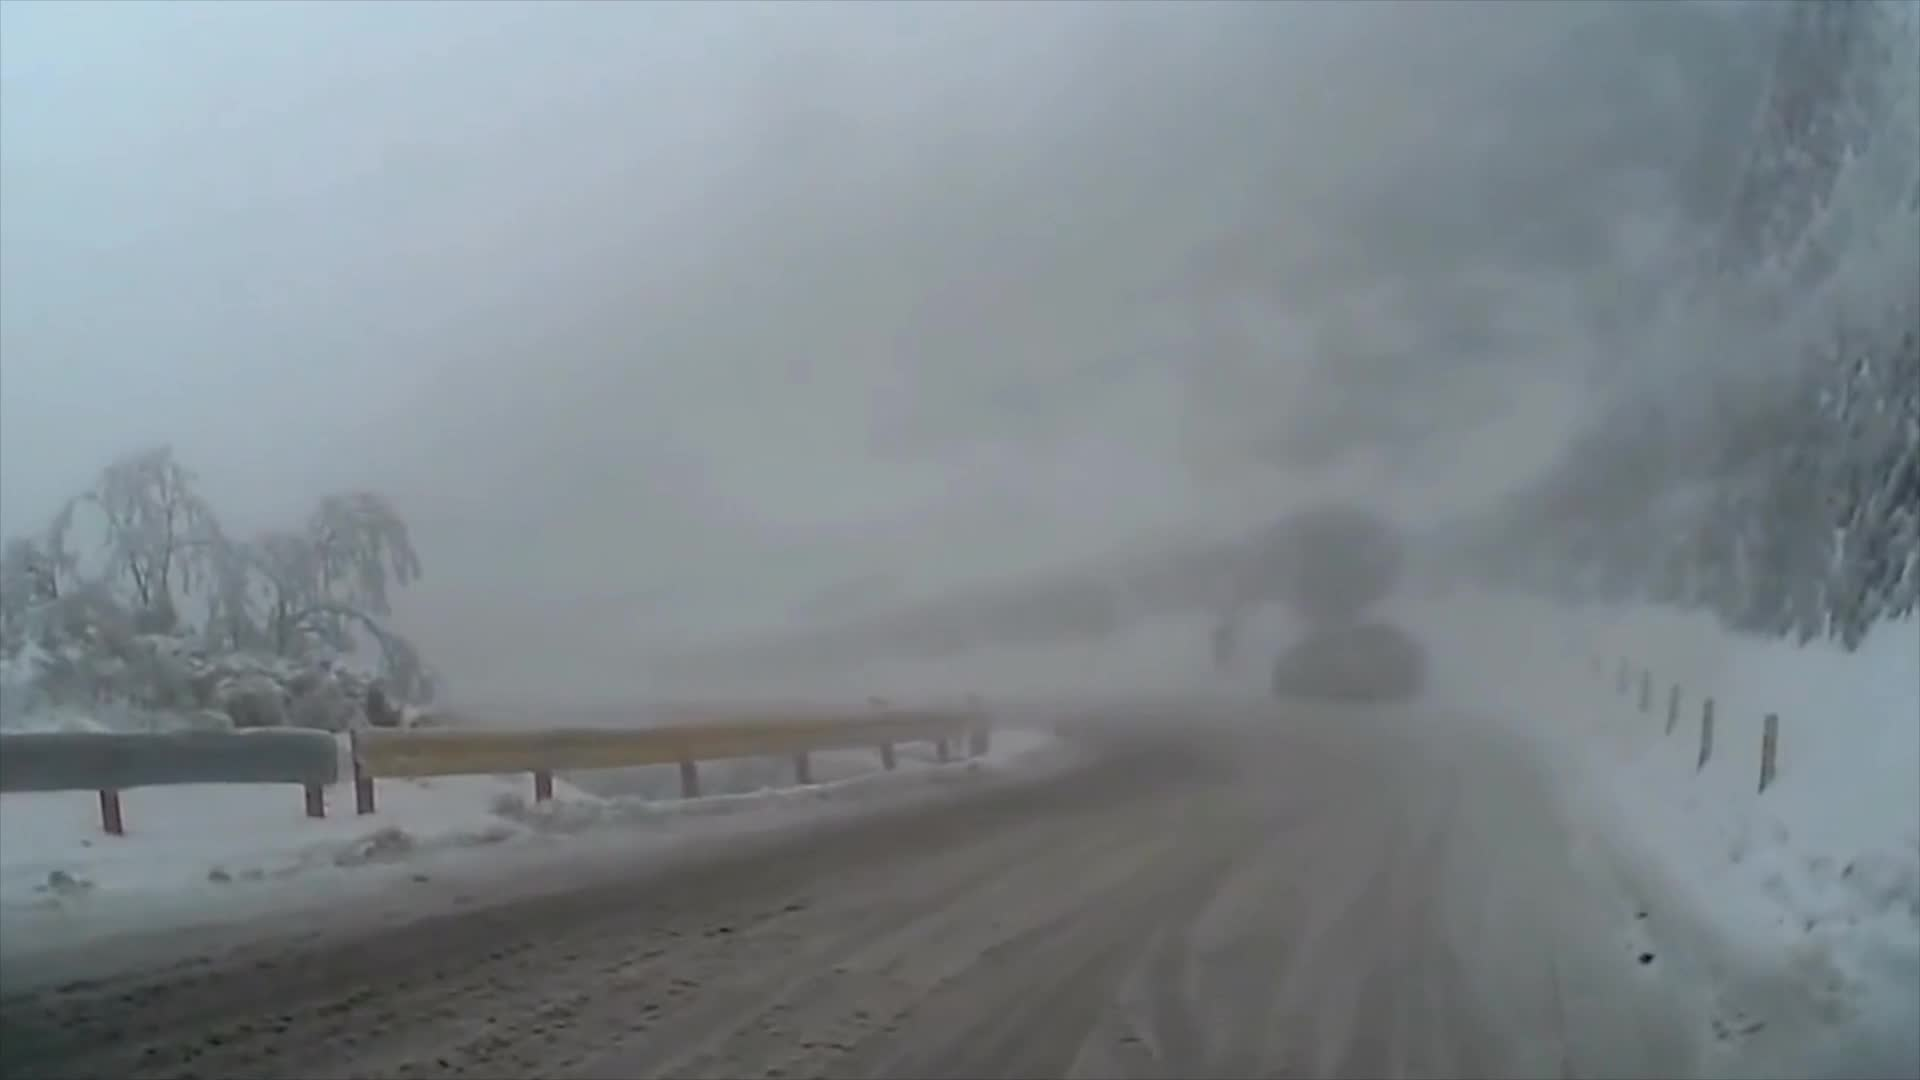vehicle: (1273, 618, 1425, 700)
